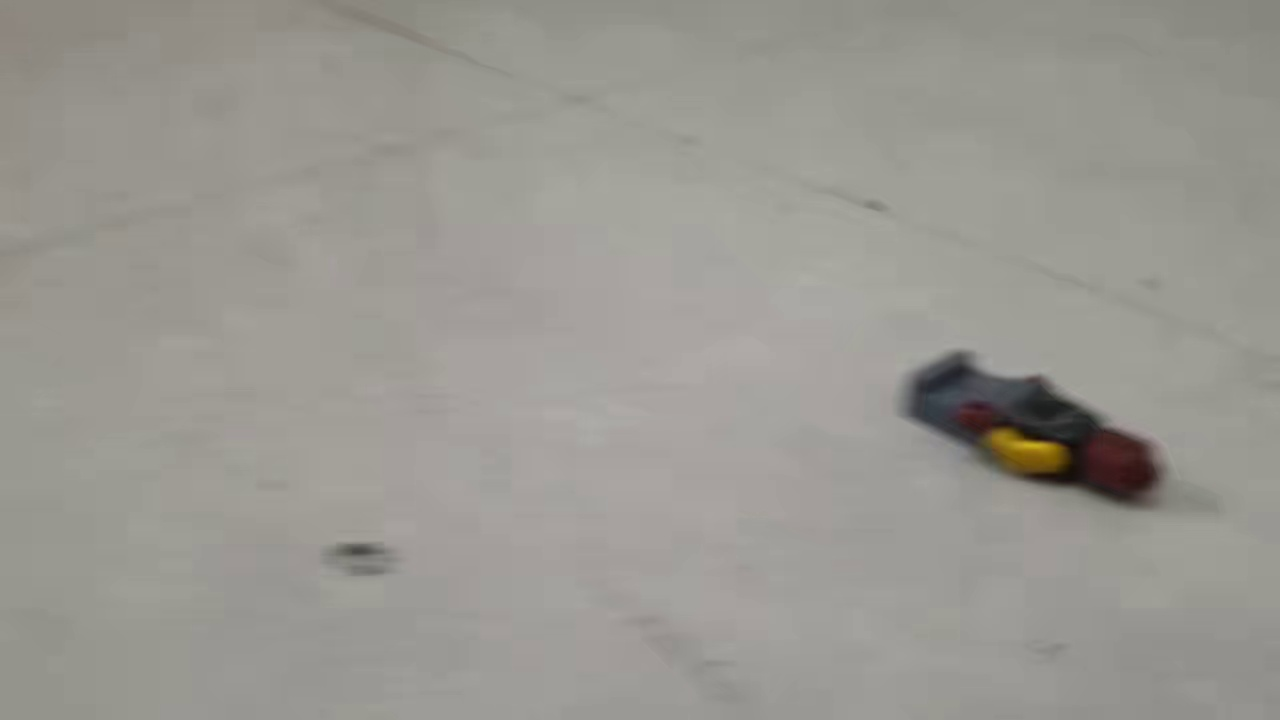people: (900, 348, 1168, 517)
